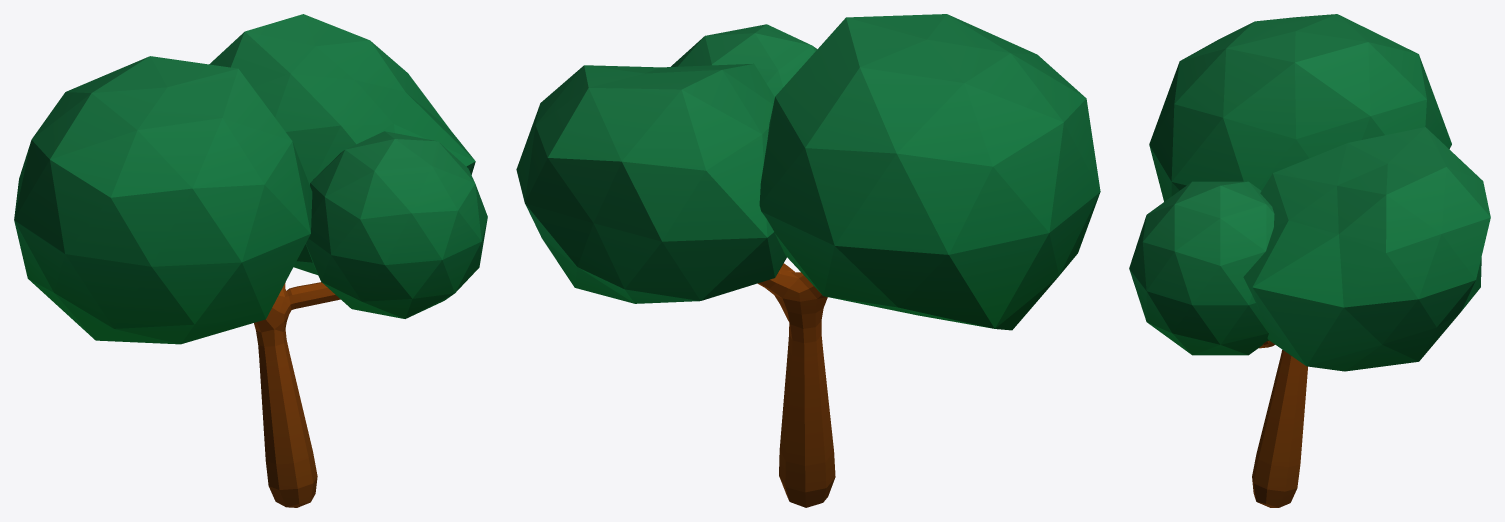
Rendered from LowPolyTree1.fbx.
3 views of the same model, side by side, from view 1: azimuth 30°, elevation 25°; view 2: azimuth 150°, elevation 25°; view 3: azimuth 270°, elevation 25° (orthographic). The views are drawn at different scales.
Parts seen in each view (by area): view 1: TreeTrunk; view 2: TreeTrunk; view 3: TreeTrunk.
Boxes of the visible parts, left/top/right/bottom form: TreeTrunk: left=14, top=14, right=487, bottom=507; TreeTrunk: left=516, top=14, right=1100, bottom=507; TreeTrunk: left=1129, top=14, right=1490, bottom=507.
Bounding box in the file's own units: 1072 × 1032 × 798.
